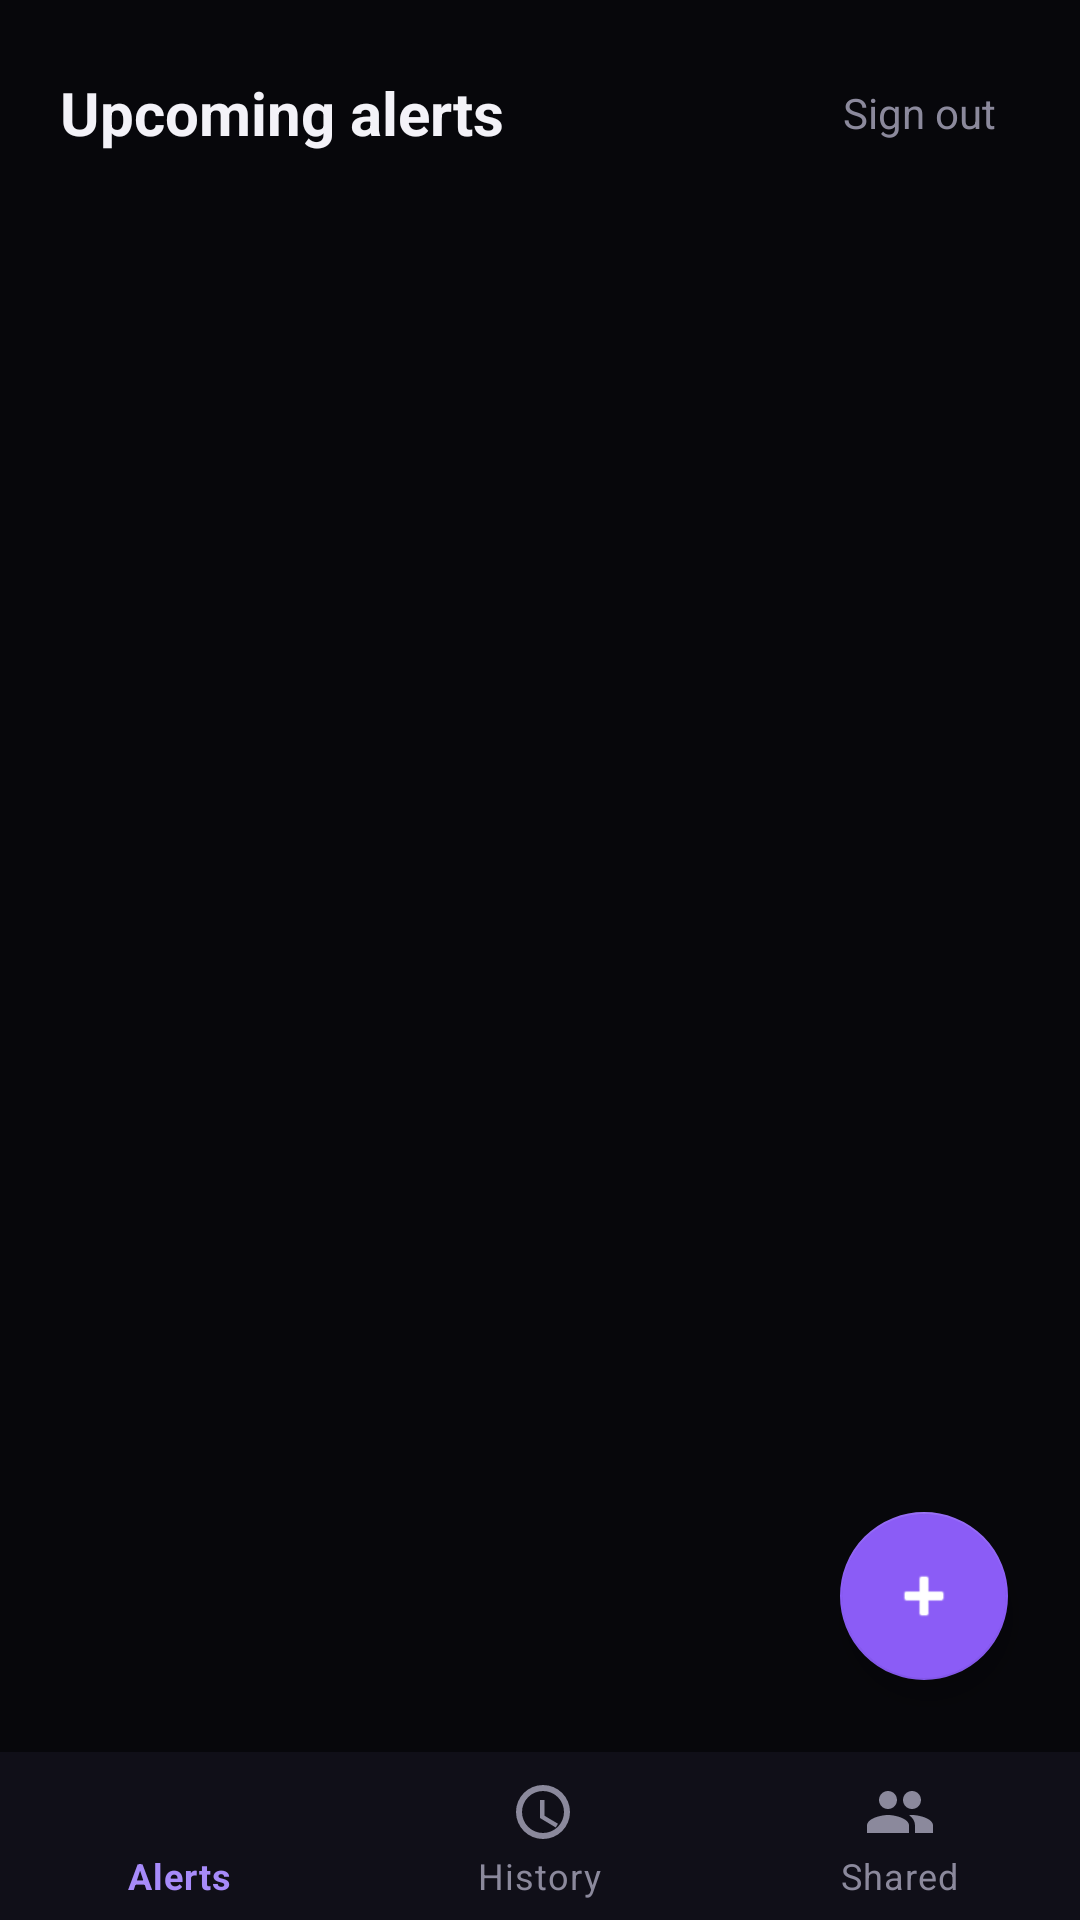

Named icons in this screenshot (1080×1920) and their bounding boxes, (x1, y1, x2, y2):
add: (840, 1512, 1008, 1680)
